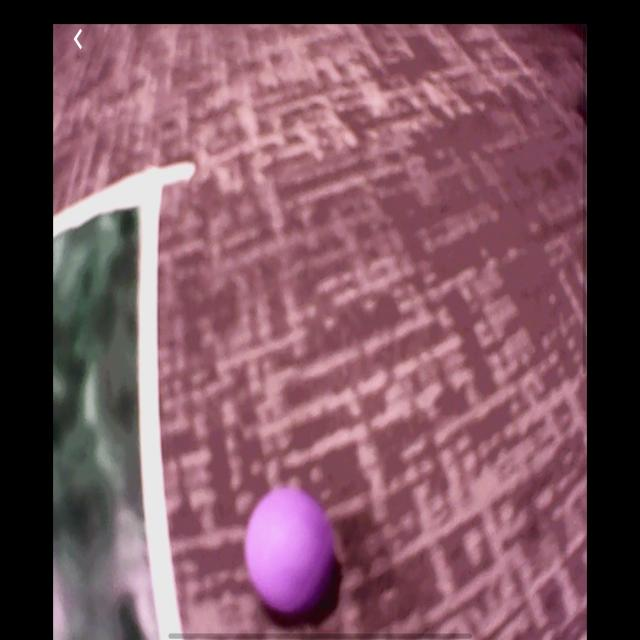ball: (244, 485, 340, 625)
